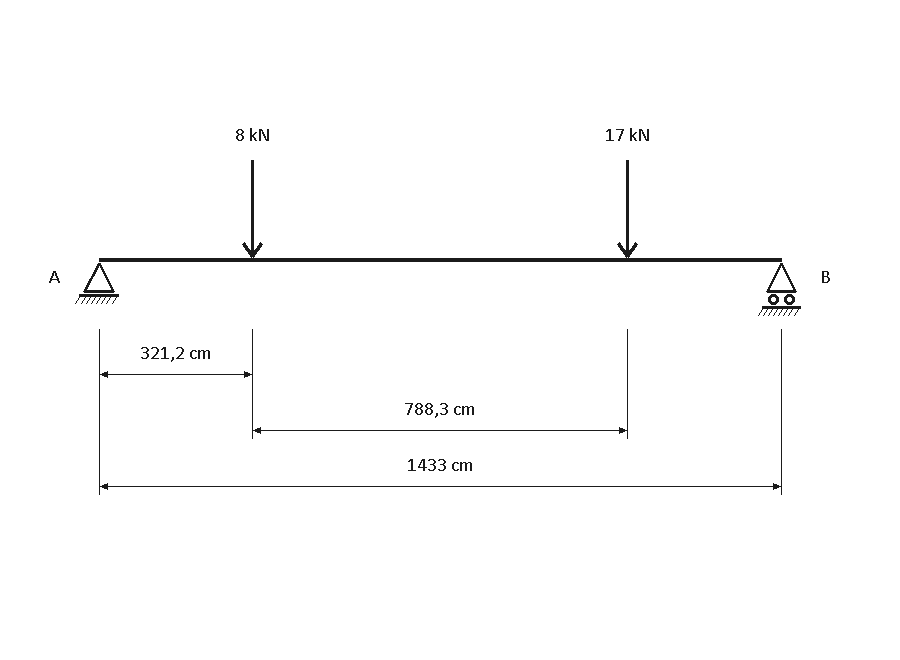pin_support: (75, 263, 119, 304)
point_load: (242, 160, 263, 258), (617, 160, 638, 258)
roller_support: (758, 263, 801, 316)
